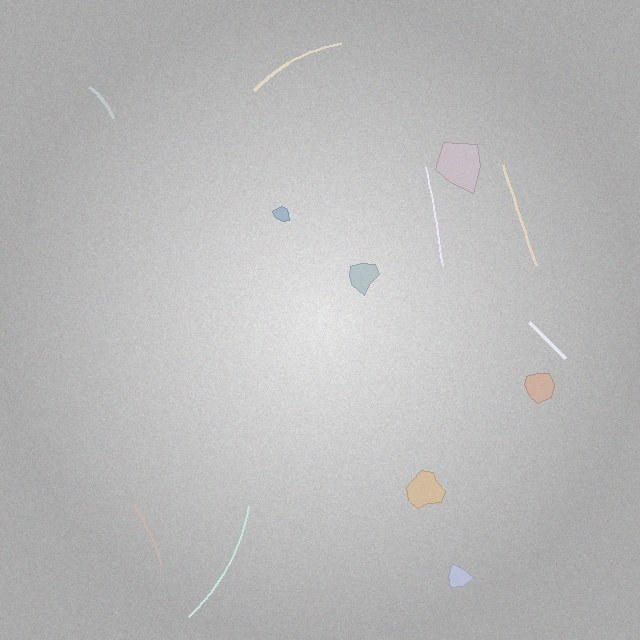fiber: (185, 503, 251, 620), (251, 40, 345, 94), (500, 162, 540, 270), (131, 502, 164, 568), (423, 165, 444, 267), (526, 319, 569, 362), (86, 84, 117, 121)
fragment: (436, 142, 480, 193), (406, 471, 445, 508), (350, 263, 379, 295), (524, 373, 554, 403), (448, 564, 474, 588), (273, 207, 290, 222)
